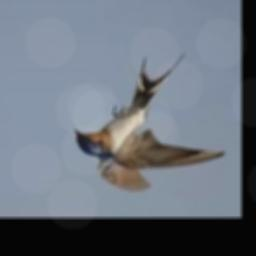Swallow: (75, 52, 226, 192)
